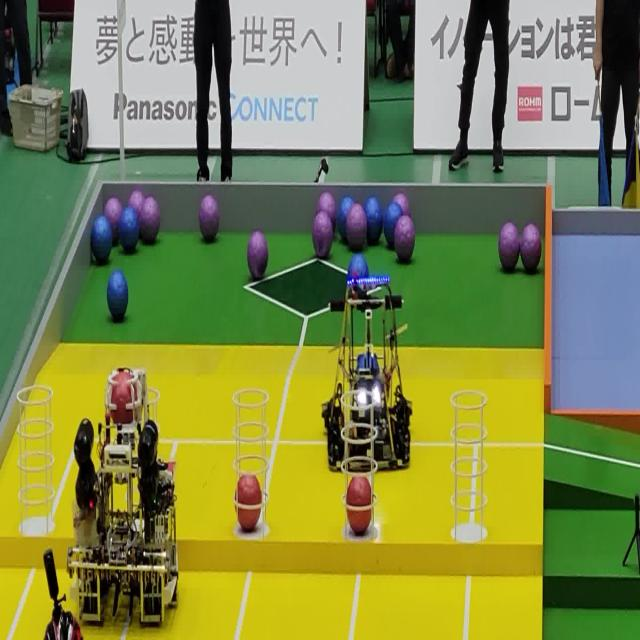blue_ball: (106, 269, 130, 322), (89, 216, 110, 264), (120, 213, 140, 255), (368, 193, 383, 245), (349, 249, 368, 288), (384, 203, 394, 248), (339, 196, 347, 243)
purple_ball: (498, 221, 520, 280), (312, 210, 334, 261), (246, 230, 268, 280), (521, 223, 542, 275), (199, 193, 220, 242), (140, 197, 161, 242), (394, 222, 415, 266), (348, 208, 366, 249), (318, 193, 336, 232), (111, 196, 119, 246), (130, 192, 144, 209), (400, 196, 410, 215)
red_ball: (234, 472, 262, 532), (346, 476, 374, 536), (110, 374, 138, 430)
